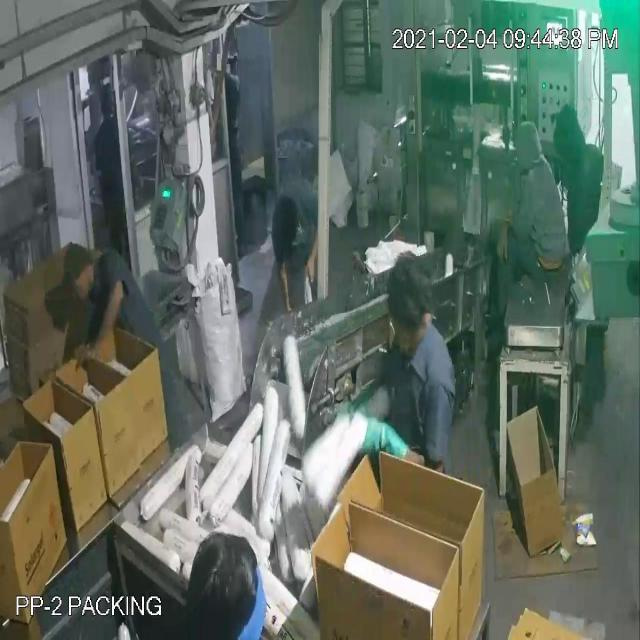No_Gloves: (18, 63, 378, 432)
